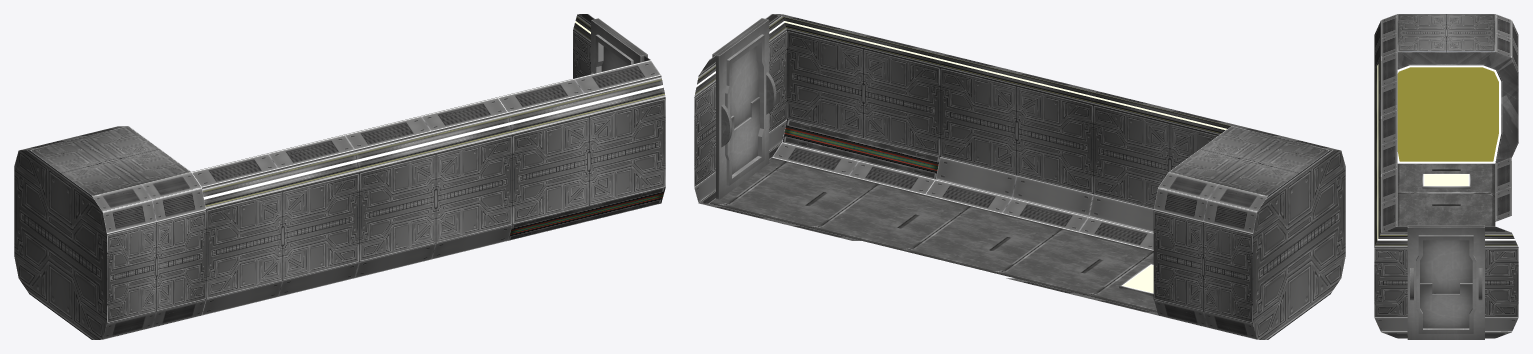
The model's file is CorredorNovo3.fbx.
3 views of the same model, side by side, from view 1: azimuth 30°, elevation 25°; view 2: azimuth 150°, elevation 25°; view 3: azimuth 270°, elevation 25° (orthographic). The views are drawn at different scales.
Visible parts, largest first — view 1: Parede.008, Porta.003, PortaMecanica.004, Parede.014; view 2: Parede.008, Porta.003, Chao.007, Parede.014, PortaMecanica.004, Cube.012, Cube.013, Cylinder.004, Placa.008; view 3: PortaHolograma.002, Porta.003, Parede.014, Chao.007, Parede.008, PortaMecanica.004, Cube.012, Cube.013, Placa.008, Cylinder.004.
Part boxes in pixels (x1,y1,x2,y2): Parede.008: (191, 60, 665, 315); Porta.003: (14, 126, 206, 339); PortaMecanica.004: (591, 18, 647, 73); Parede.014: (573, 14, 650, 78); Parede.008: (699, 14, 1241, 315); Porta.003: (1153, 126, 1345, 339); Chao.007: (710, 158, 1157, 312); Parede.014: (694, 14, 786, 203); PortaMecanica.004: (712, 18, 769, 199); Cube.012: (730, 46, 758, 128); Cube.013: (730, 97, 759, 174); Cylinder.004: (721, 72, 776, 147); Placa.008: (1119, 263, 1153, 296); PortaHolograma.002: (1397, 65, 1501, 163); Porta.003: (1374, 14, 1518, 163); Parede.014: (1374, 226, 1518, 338); Chao.007: (1397, 163, 1495, 226); Parede.008: (1374, 52, 1511, 334); PortaMecanica.004: (1407, 225, 1484, 339); Cube.012: (1420, 240, 1472, 294); Cube.013: (1420, 283, 1472, 328); Placa.008: (1422, 173, 1470, 188); Cylinder.004: (1410, 268, 1482, 300).
Bounding box in the file's own units: 2108 × 507 × 593.
